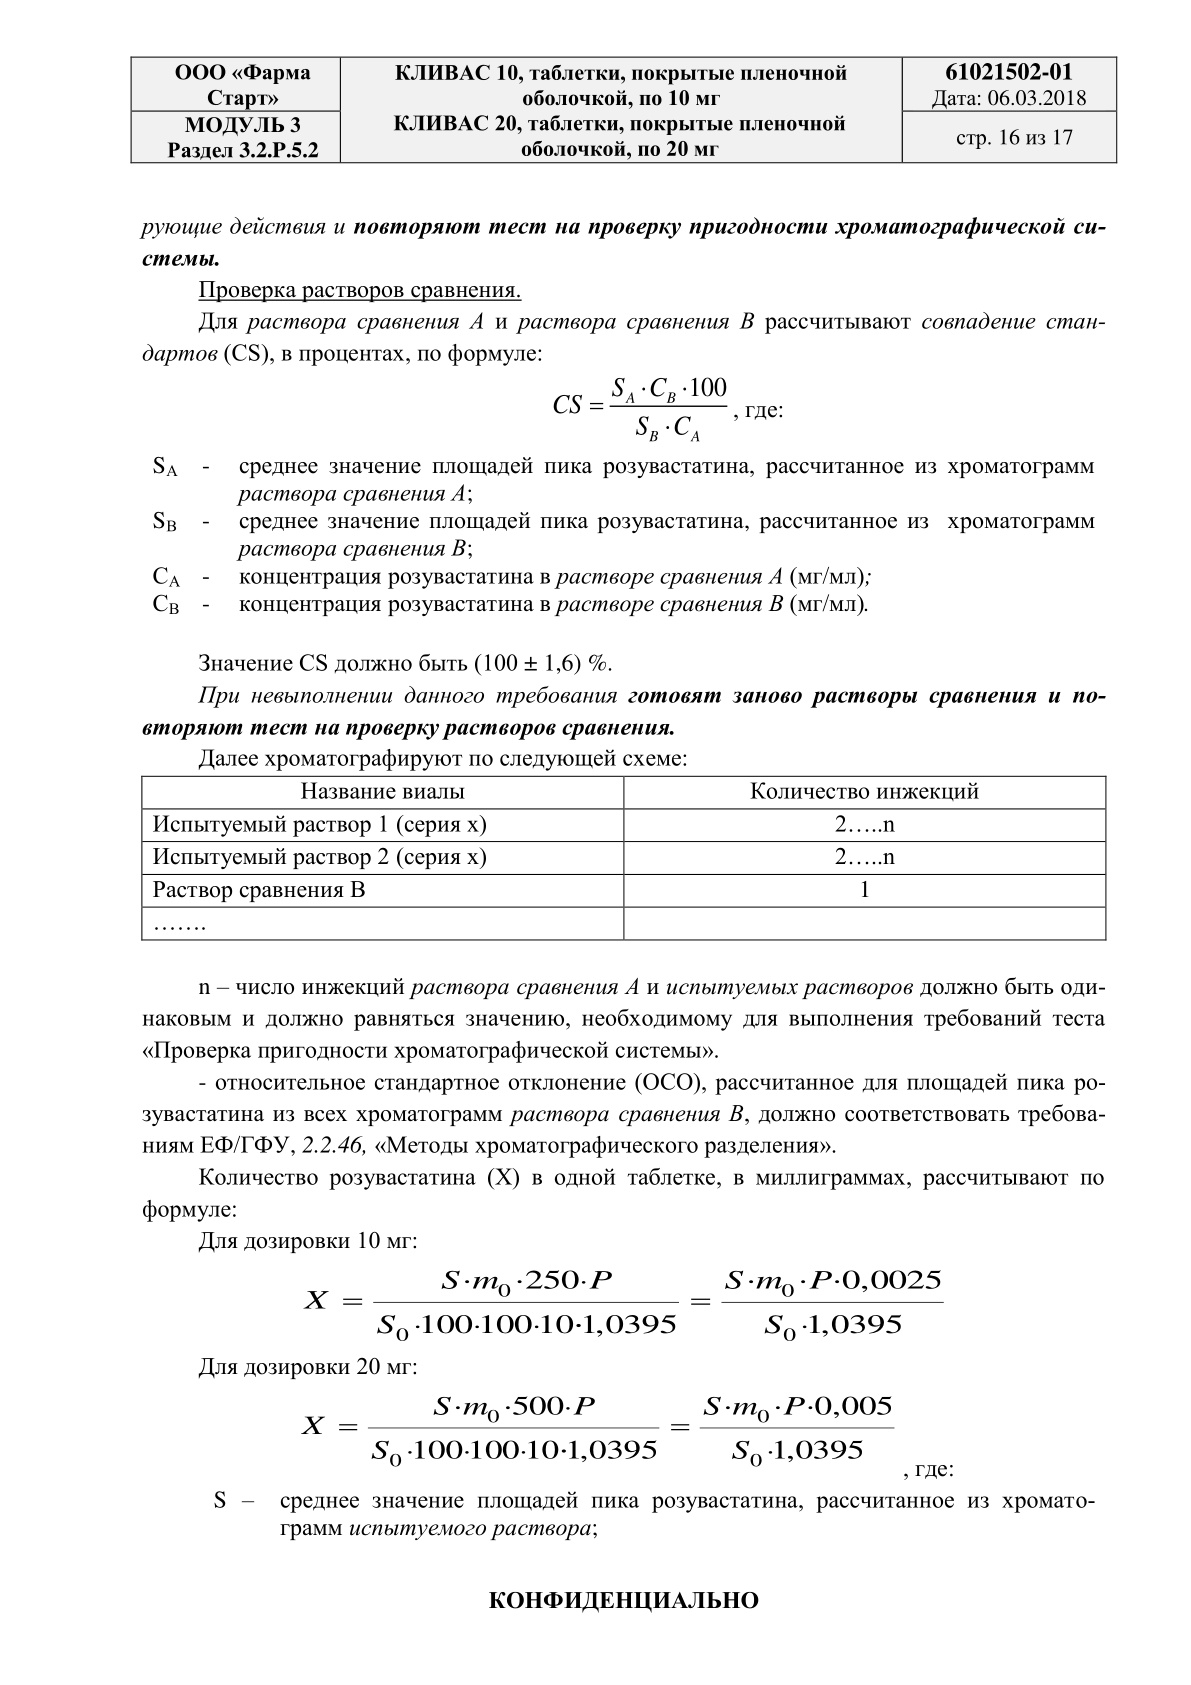full_lined: (139, 774, 1109, 942)
merged_cells: (128, 53, 1119, 164)
